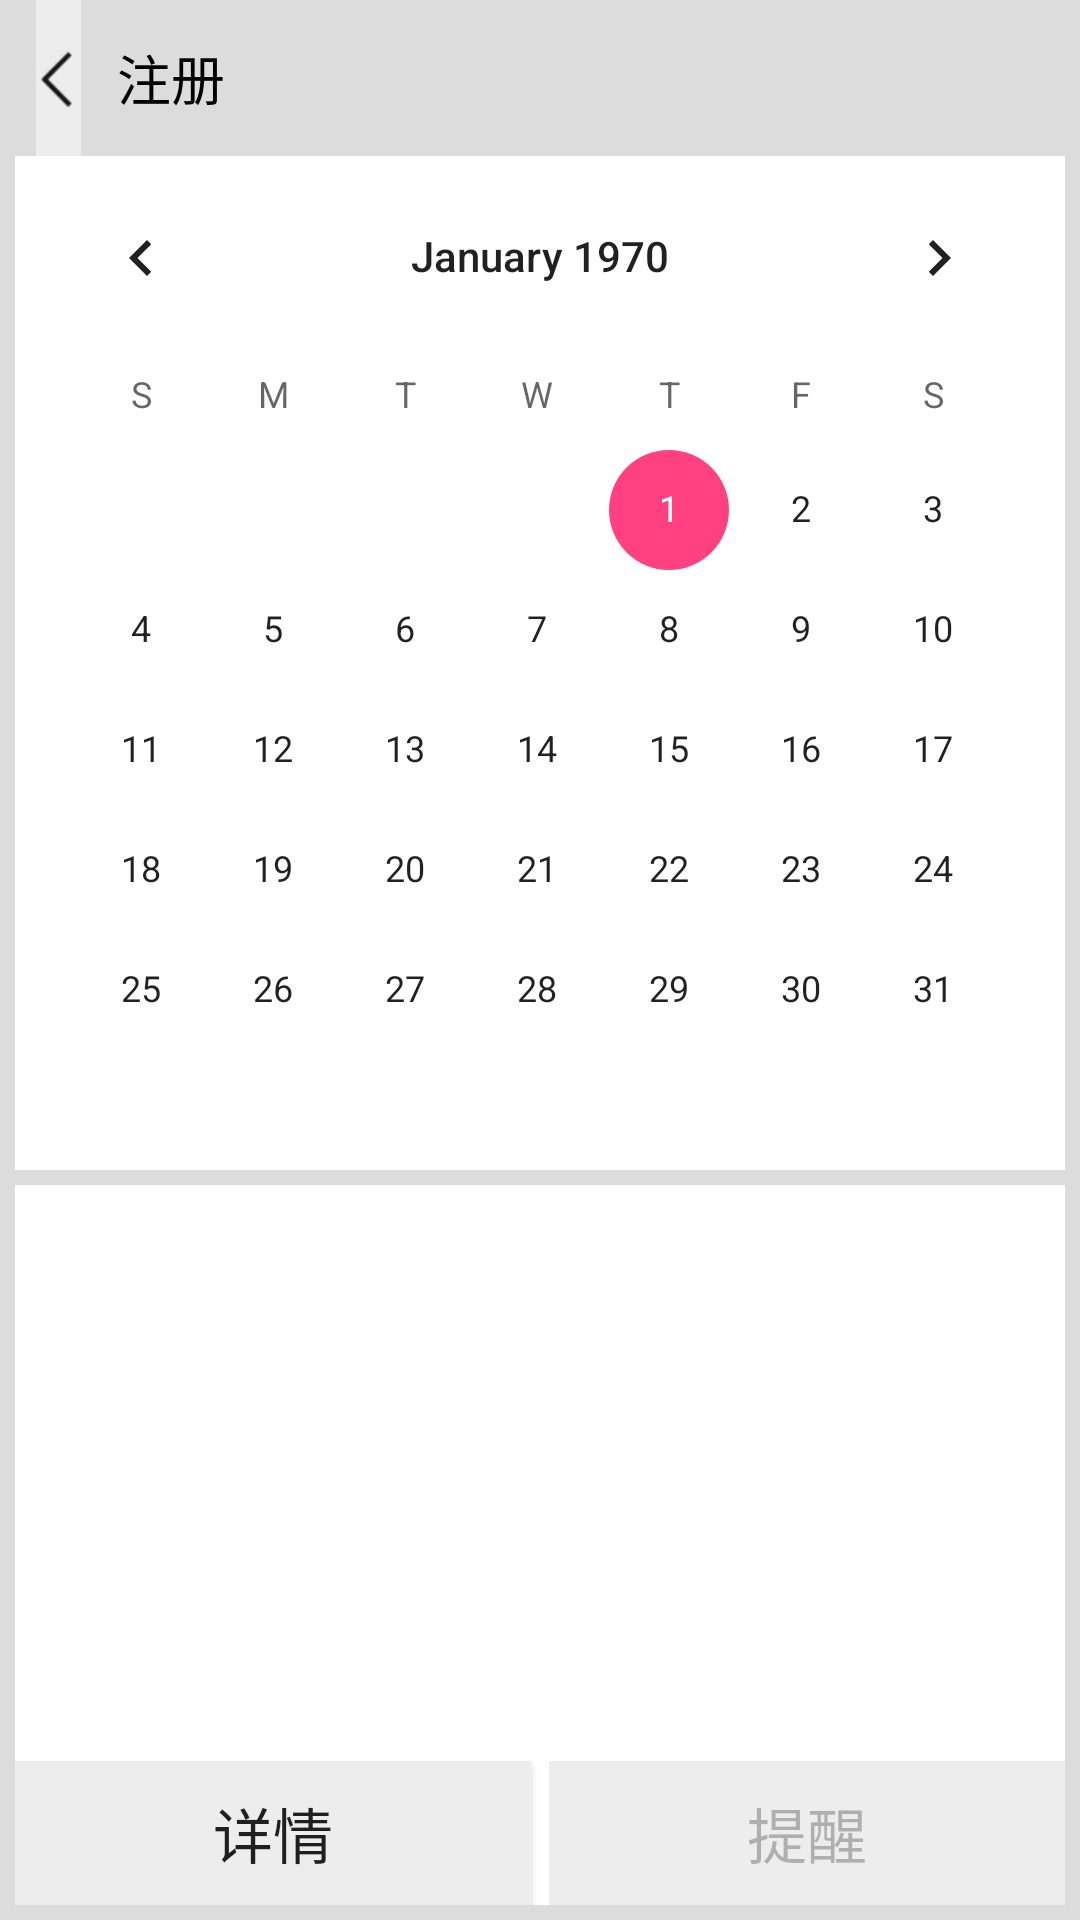

Named icons in this screenshot (1080 x 1920) and their centers, (x=x, y=y):
backbutton: (x=58, y=78)
